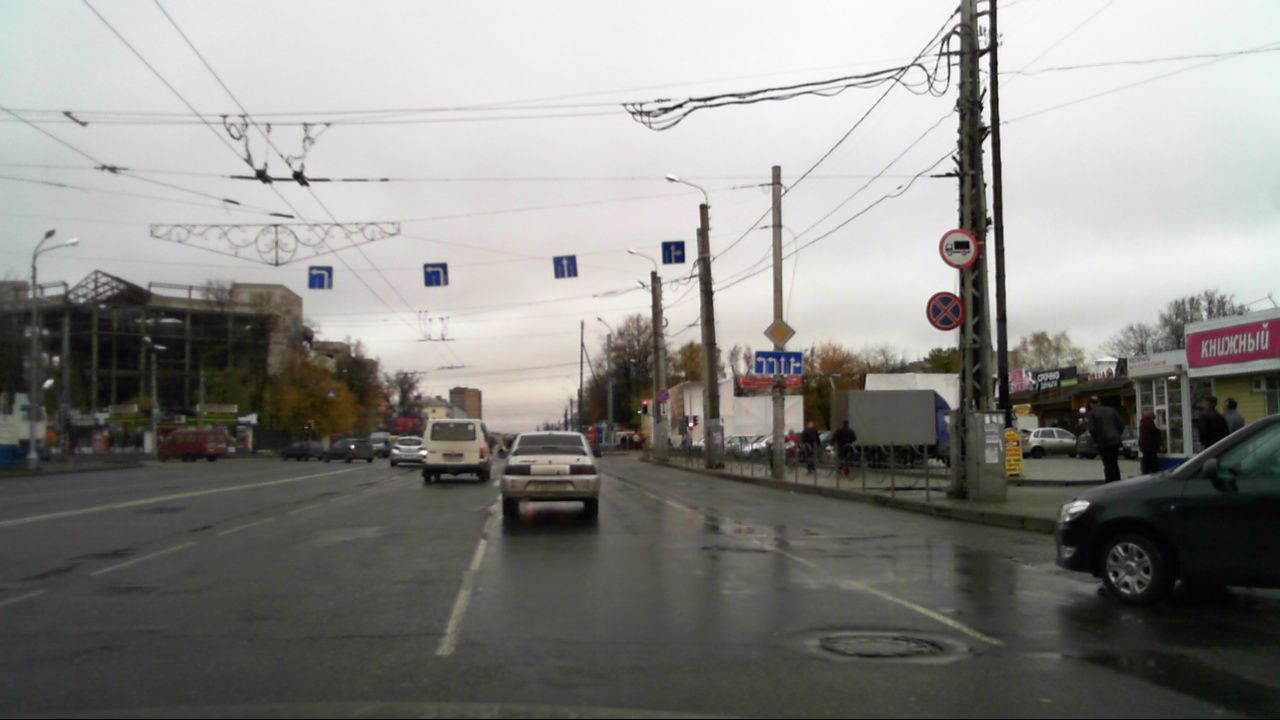No Parking: (925, 291, 965, 330)
